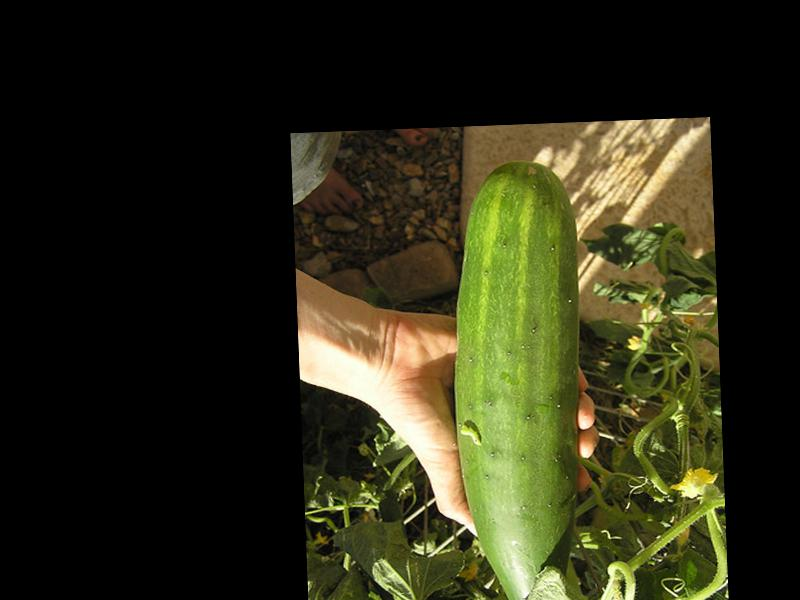Cucumber: (446, 159, 592, 600)
